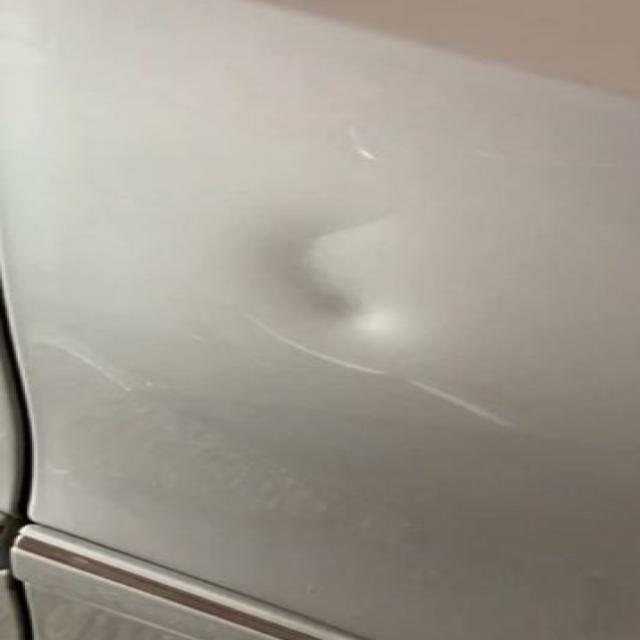dents: (205, 182, 539, 377)
